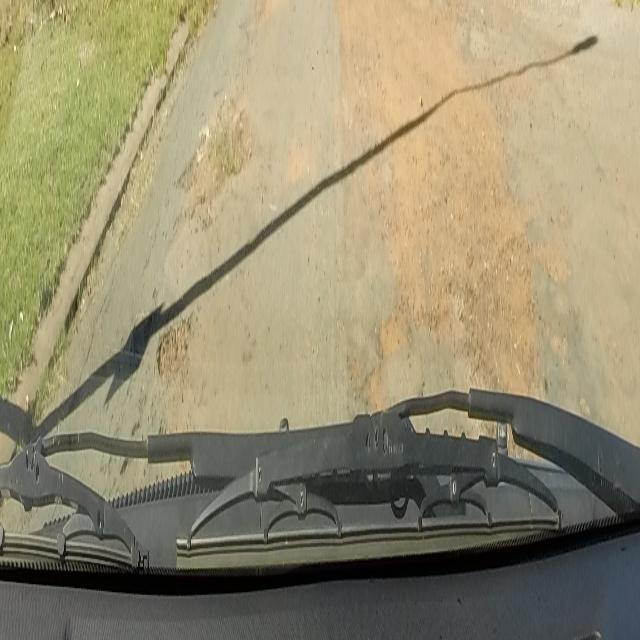pothole: (174, 90, 255, 235), (156, 316, 192, 382)
